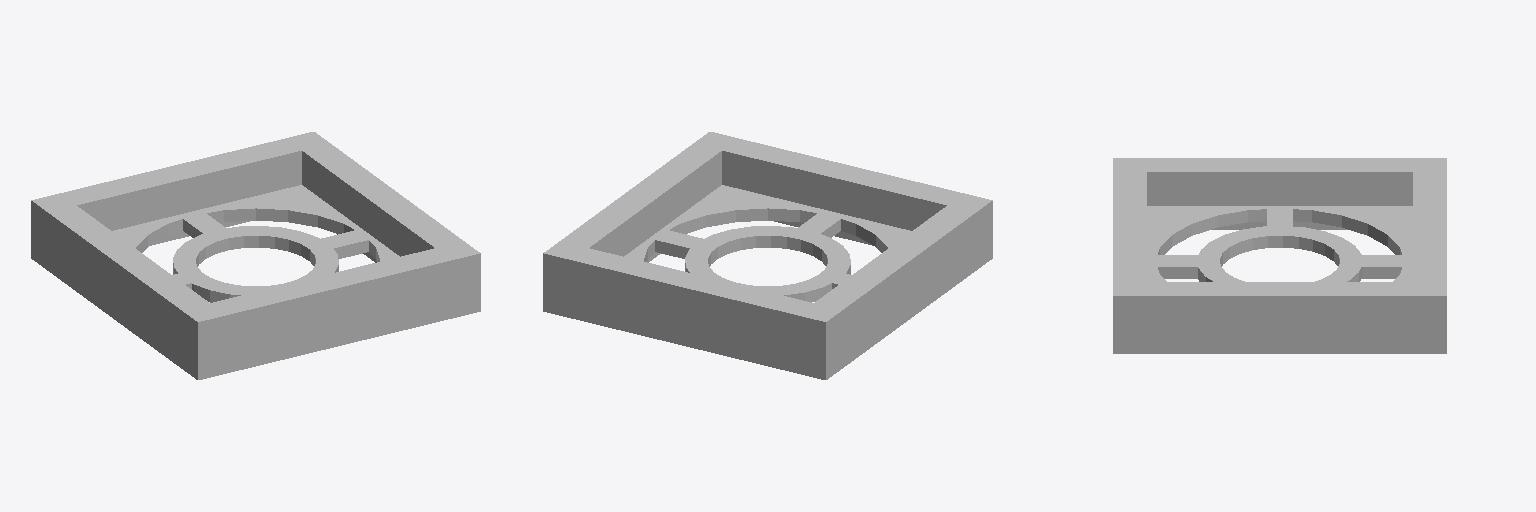
File: fan test.obj
The picture shows the model from 3 angles: view 1: azimuth 30°, elevation 25°; view 2: azimuth 150°, elevation 25°; view 3: azimuth 270°, elevation 25°; orthographic projection.
Visible parts, largest first — view 1: Mesh1 Model; view 2: Mesh1 Model; view 3: Mesh1 Model.
Boxes of the visible parts, x1=… form: Mesh1 Model: x1=31, y1=132, x2=480, y2=379; Mesh1 Model: x1=543, y1=132, x2=992, y2=379; Mesh1 Model: x1=1113, y1=158, x2=1446, y2=353.
Bounding box in the file's own units: 49 × 9.65 × 50.